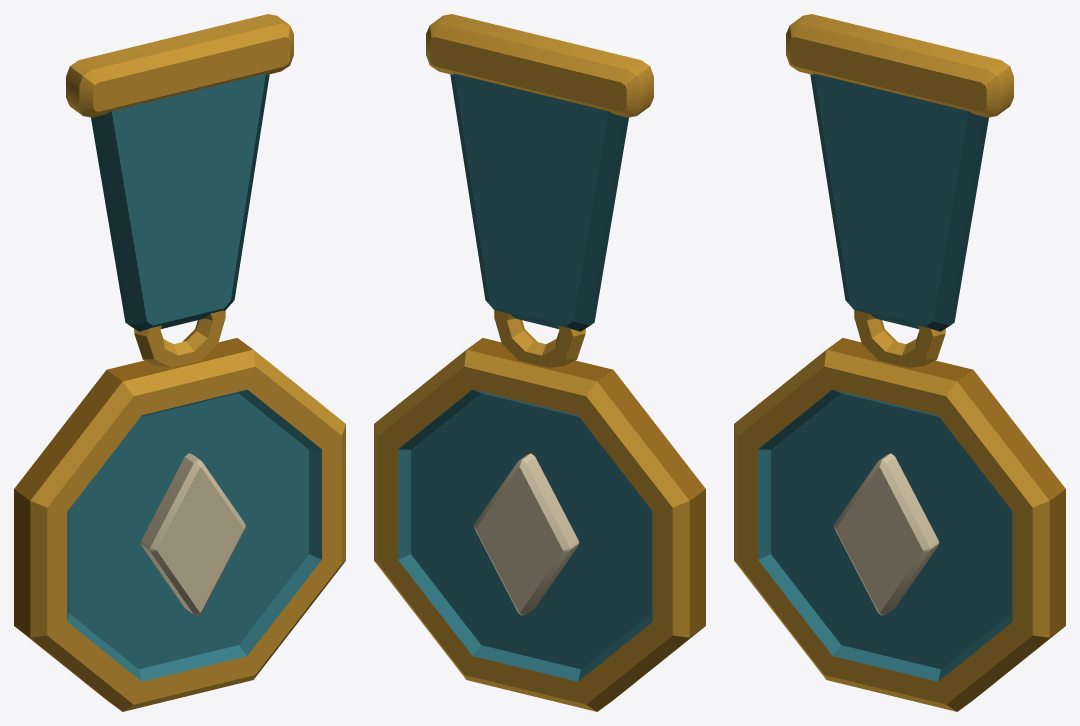
File: Medal_40.glb
3 renders of one model, left to right at view 1: azimuth 30°, elevation 25°; view 2: azimuth 150°, elevation 25°; view 3: azimuth 330°, elevation 25°, orthographic.
Parts seen in each view (by area): view 1: Medal_40; view 2: Medal_40; view 3: Medal_40.
Part boxes in pixels (x1,y1,x2,y2): Medal_40: (14,14,345,711); Medal_40: (374,14,705,711); Medal_40: (734,14,1065,711).
Size of the model in its own units: 1.24 by 2.44 by 0.28.
